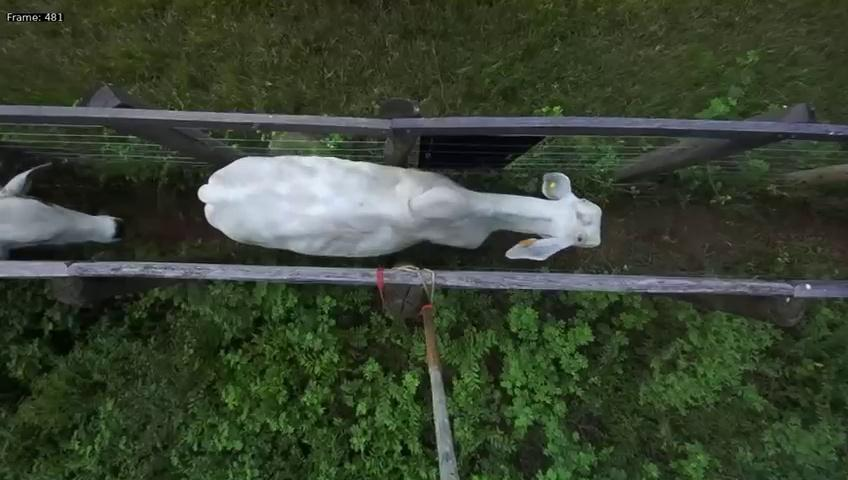cattle: (197, 124, 603, 261)
